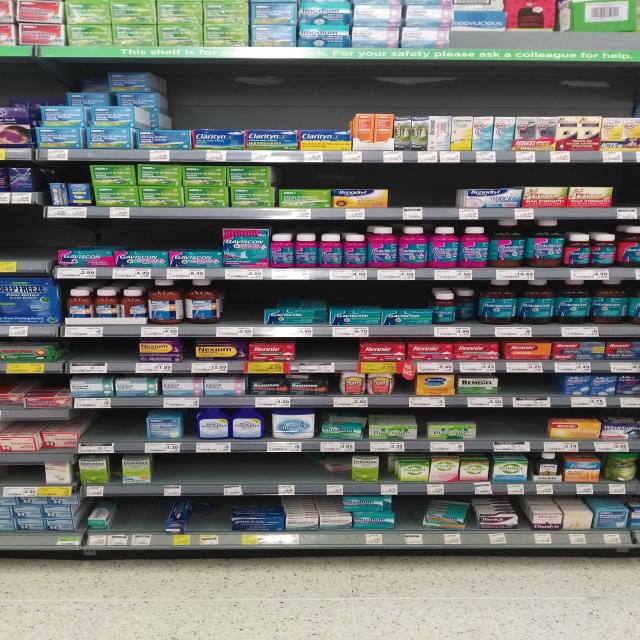void: (457, 0, 640, 50), (155, 453, 317, 484), (392, 165, 459, 209), (0, 206, 50, 262), (479, 408, 547, 441), (83, 409, 144, 442), (61, 338, 137, 363), (117, 496, 160, 534), (226, 280, 263, 324), (296, 338, 357, 362), (503, 374, 560, 397), (0, 464, 43, 488)
